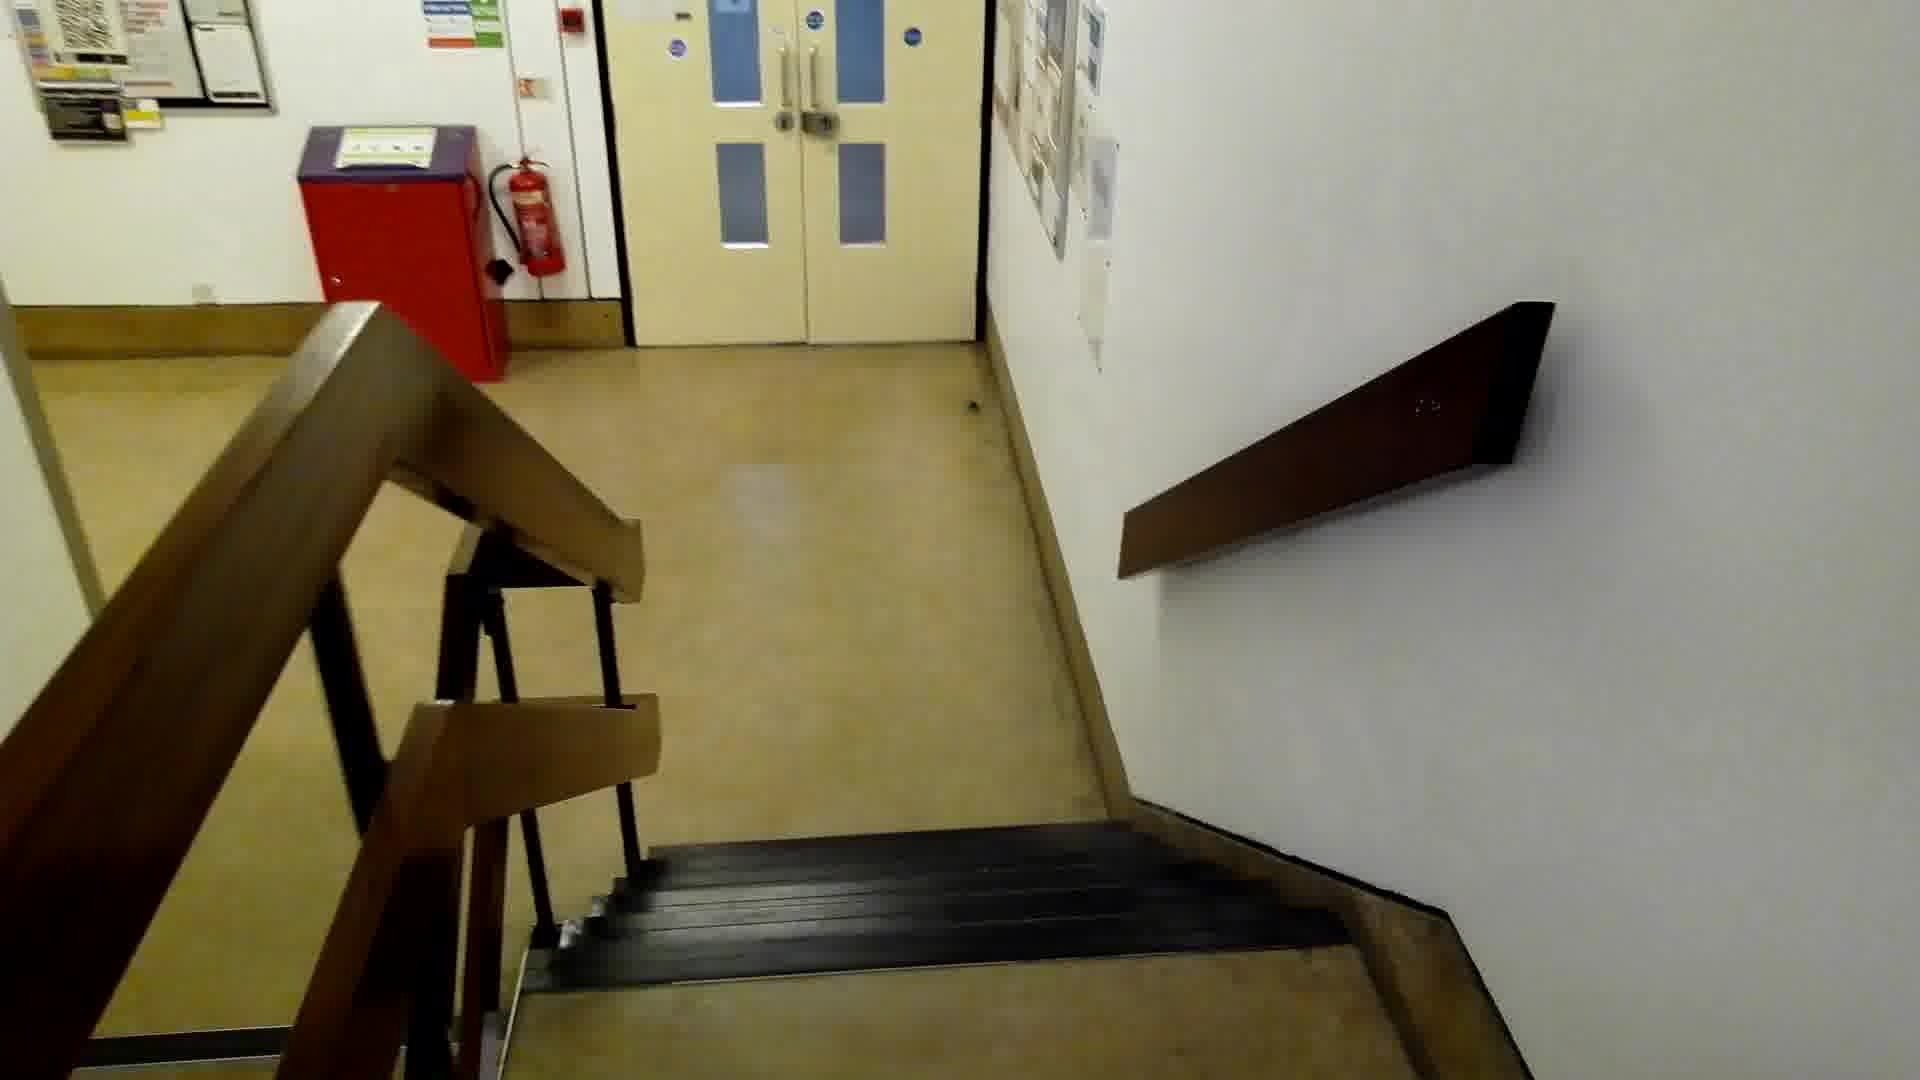Bin: (301, 117, 506, 351)
Stairs: (386, 560, 1406, 994)
